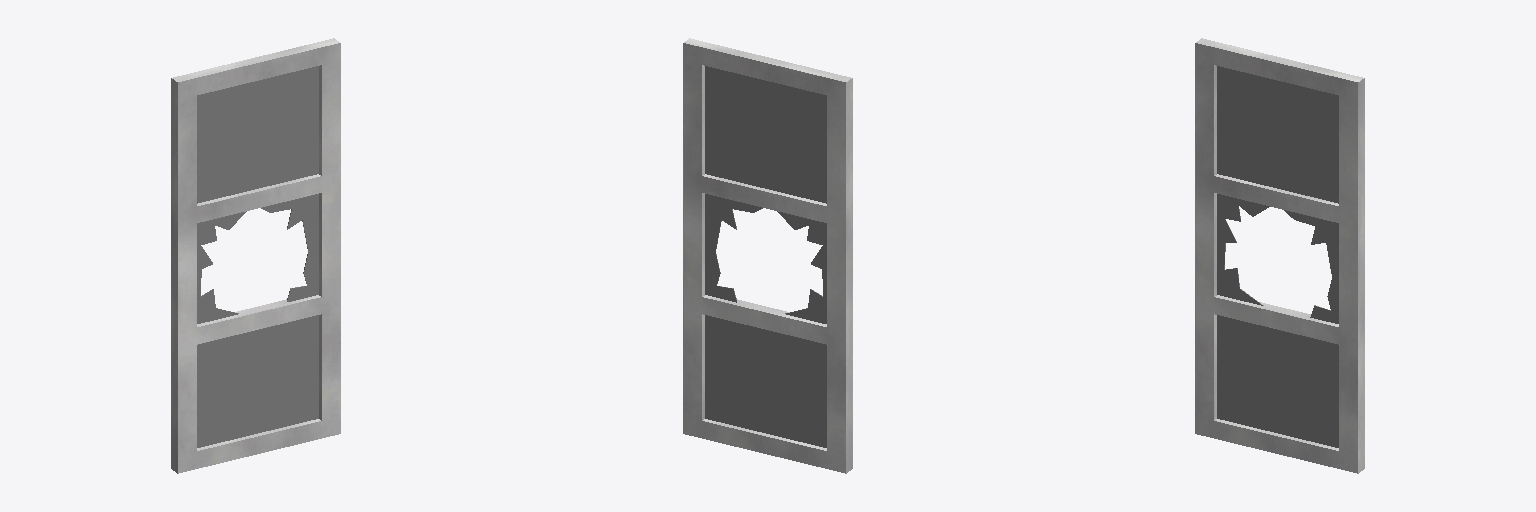
3 views of the same model, side by side, from view 1: azimuth 30°, elevation 25°; view 2: azimuth 150°, elevation 25°; view 3: azimuth 330°, elevation 25° (orthographic).
Parts seen in each view (by area): view 1: Window_Glass03, Window_05; view 2: Window_Glass03, Window_05; view 3: Window_Glass03, Window_05.
Part boxes in pixels (x1,y1,x2,y2): Window_Glass03: (197,66,318,447); Window_05: (171,38,340,473); Window_Glass03: (705,66,826,447); Window_05: (683,38,852,473); Window_Glass03: (1217,66,1338,447); Window_05: (1195,38,1364,473).
Bounding box in the file's own units: 53.46 × 123 × 3.56.
Materials: 2 (1 with a texture image).